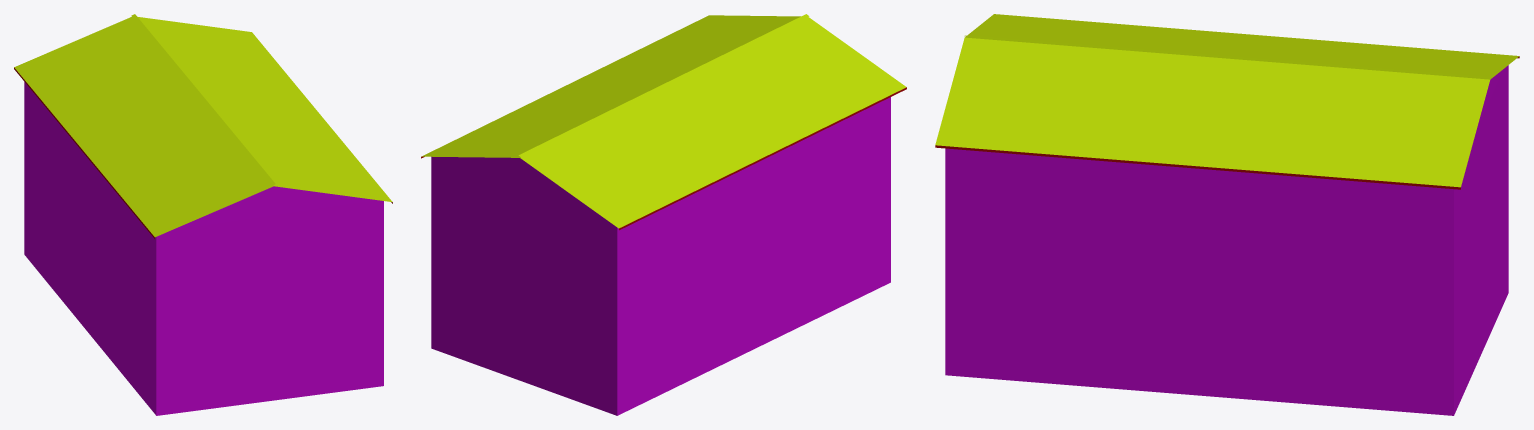
The model's file is ces_5.glb.
The picture shows the model from 3 angles, left to right: view 1: azimuth 30°, elevation 25°; view 2: azimuth 150°, elevation 25°; view 3: azimuth 270°, elevation 25°; orthographic projection. The views are drawn at different scales.
Parts seen in each view (by area): view 1: ces_5; view 2: ces_5; view 3: ces_5.
Boxes of the visible parts, bbox=[...] form: ces_5: bbox=[14, 14, 392, 415]; ces_5: bbox=[421, 14, 906, 415]; ces_5: bbox=[935, 14, 1519, 415].
Size of the model in its own units: 18.71 by 13.96 by 26.66.
